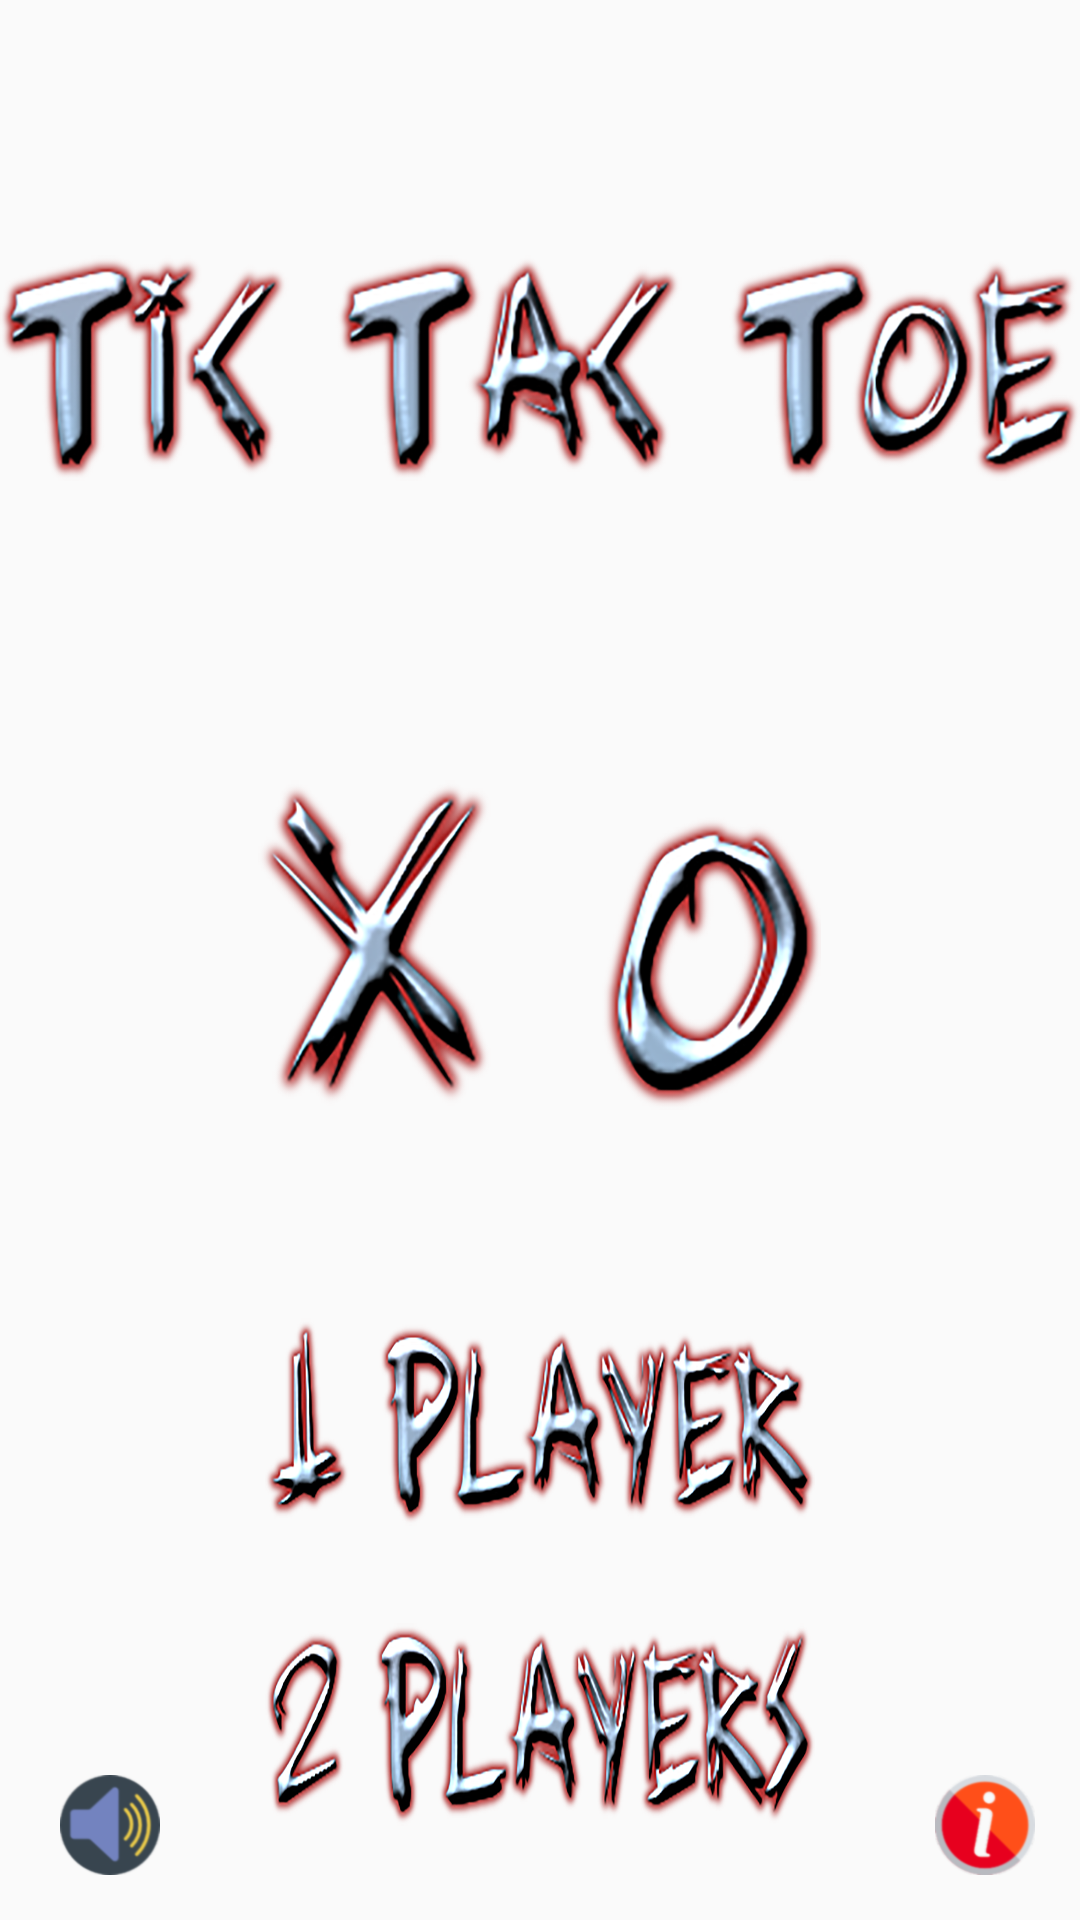

Named icons in this screenshot (1080 × 1920) and their centers, point (x, y):
info: point (985, 1825)
speaker: point (110, 1825)
